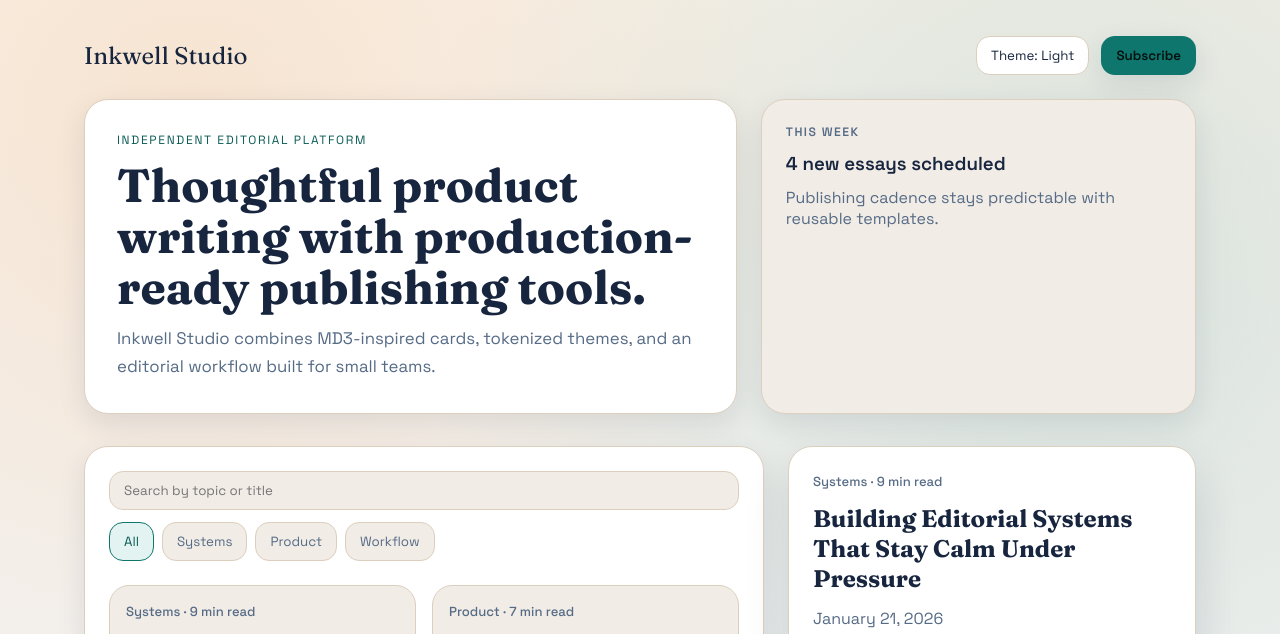
Test: App › filters posts by tag
Click the button "Workflow".
click(390, 541)  # box [345,522,434,560]
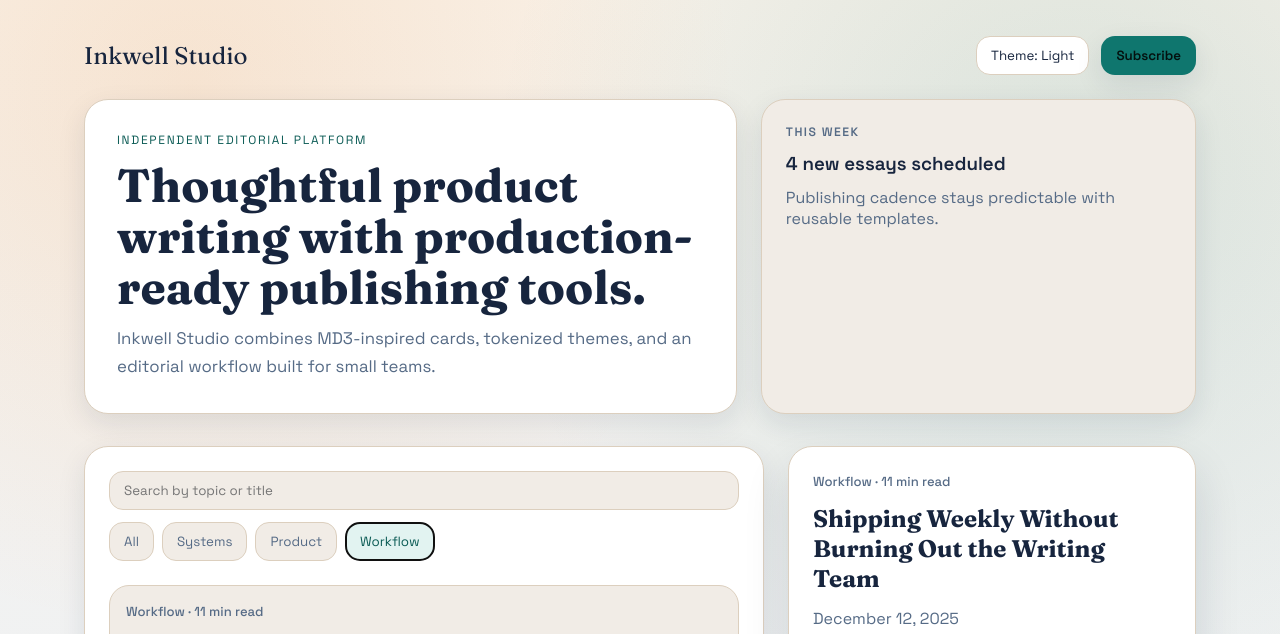
Expected: the text "December 12, 2025" is shown, [813,608,959,629]
